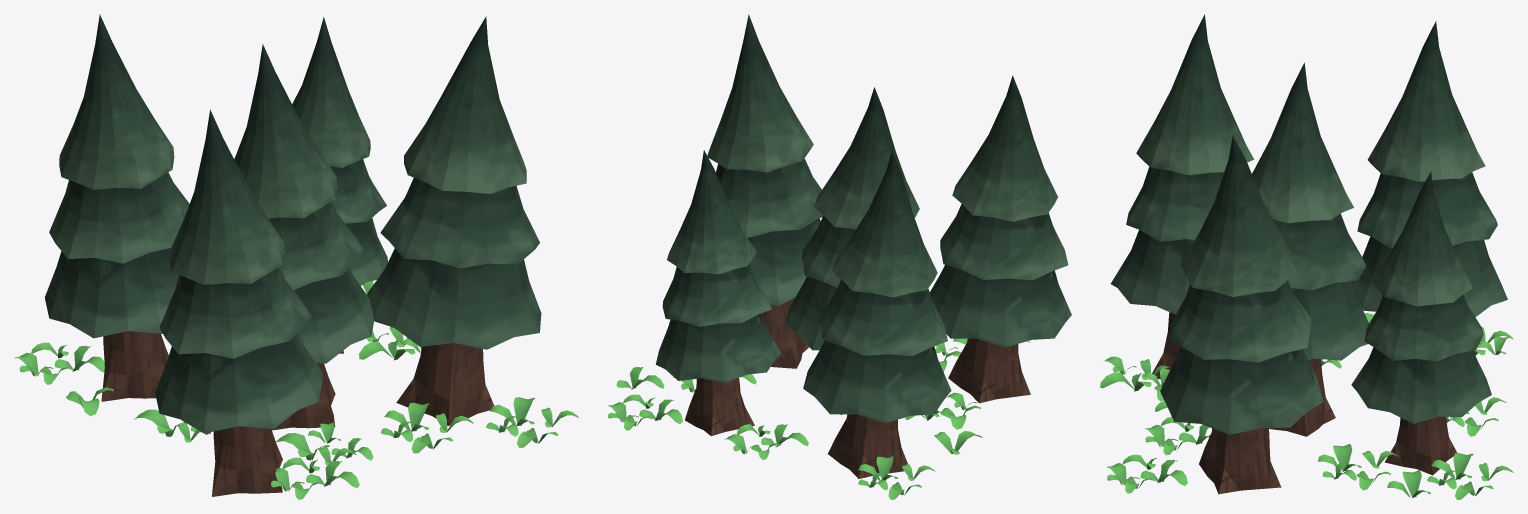
The model's file is Forest_02.fbx.
The picture shows the model from 3 angles, left to right: view 1: azimuth 30°, elevation 25°; view 2: azimuth 150°, elevation 25°; view 3: azimuth 270°, elevation 25°; orthographic projection. The views are drawn at different scales.
Parts seen in each view (by area): view 1: Forest_02; view 2: Forest_02; view 3: Forest_02.
Boxes of the visible parts, box(x1,y1,x2,y2) form: Forest_02: box(14, 14, 578, 499); Forest_02: box(608, 14, 1071, 499); Forest_02: box(1100, 14, 1513, 499).
Size of the model in its own units: 993 by 943 by 986.
